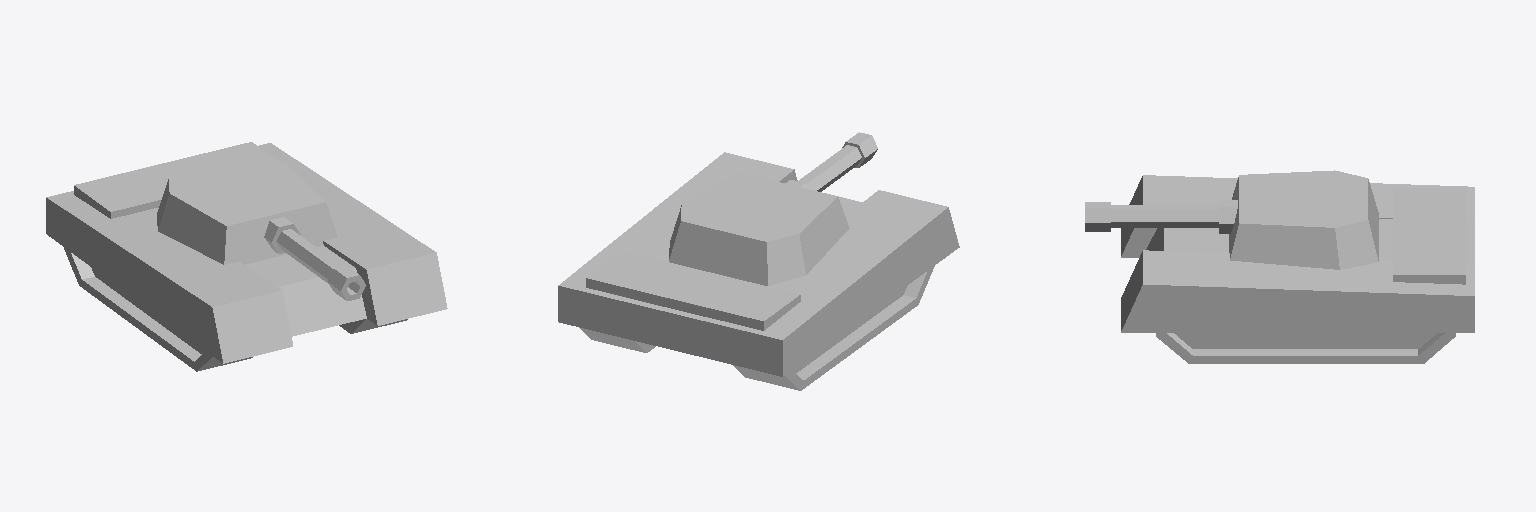
The model's file is tank.obj.
3 views of the same model, side by side, from view 1: azimuth 30°, elevation 25°; view 2: azimuth 150°, elevation 25°; view 3: azimuth 270°, elevation 25° (orthographic).
Visible parts, largest first — view 1: Cube_Cube.001; view 2: Cube_Cube.001; view 3: Cube_Cube.001.
Boxes of the visible parts, box(x1,y1,x2,y2) form: Cube_Cube.001: box(46, 142, 447, 371); Cube_Cube.001: box(558, 132, 959, 390); Cube_Cube.001: box(1085, 170, 1474, 363).
Bounding box in the file's own units: 1.83 × 0.8845 × 2.75.